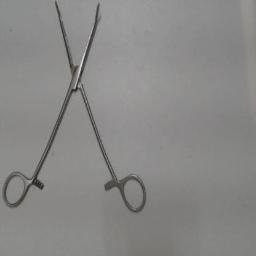Lahey Forceps: (1, 0, 151, 216)
